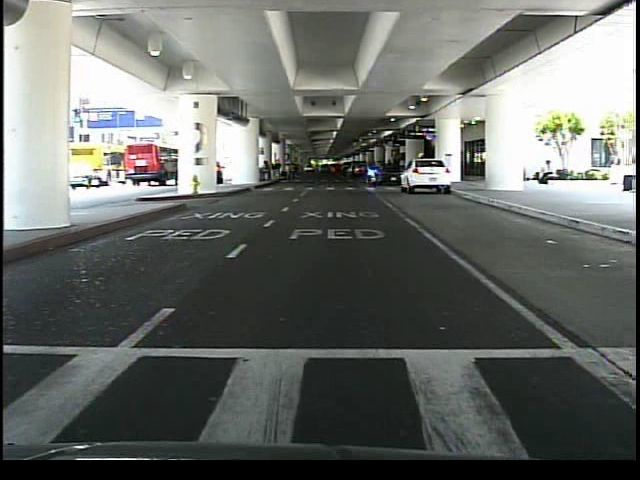person: (532, 154, 559, 191)
